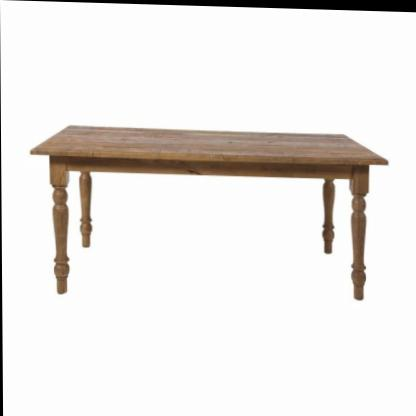Table: (21, 106, 398, 319)
